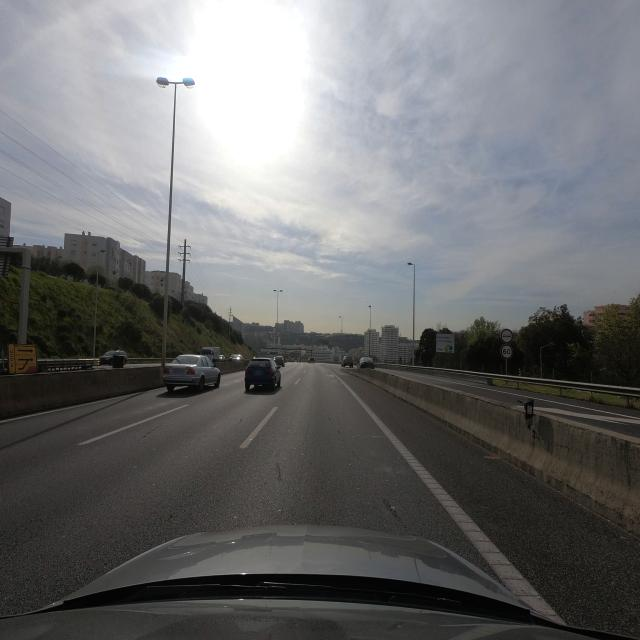car: (162, 354, 220, 393), (244, 357, 281, 392), (96, 350, 128, 368), (358, 356, 374, 369), (342, 354, 354, 369), (275, 356, 285, 366), (229, 354, 243, 361), (309, 357, 316, 365)
